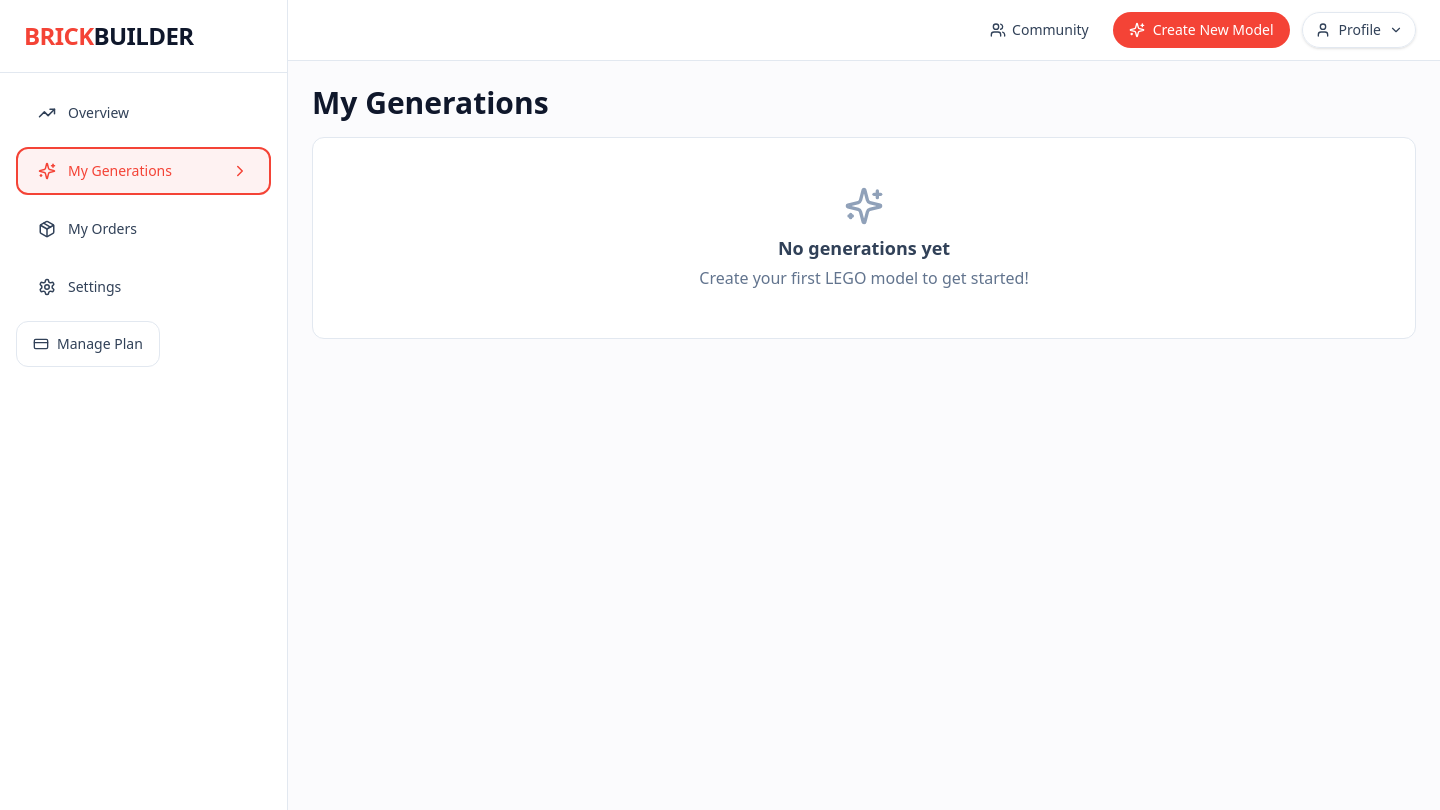
returns from My Generations to the dashboard overview through the profile menu
Expected: the heading "My Generations" is shown, [312,82,549,123]
Click the button with aria-label "Profile" at [1359, 30], box [1302,12,1416,48]
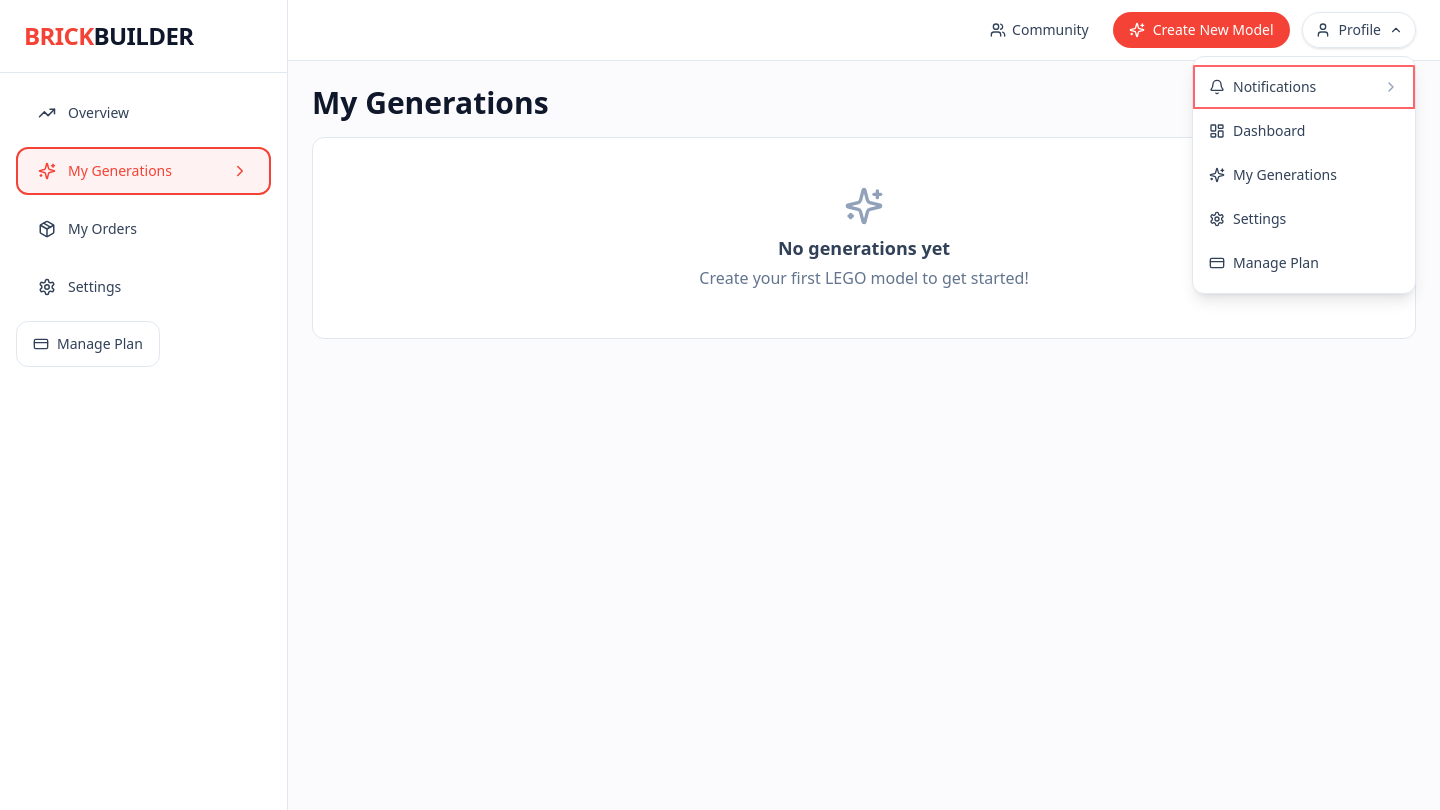
Click the button "Dashboard" at [1304, 131], box [1193,109,1415,153]
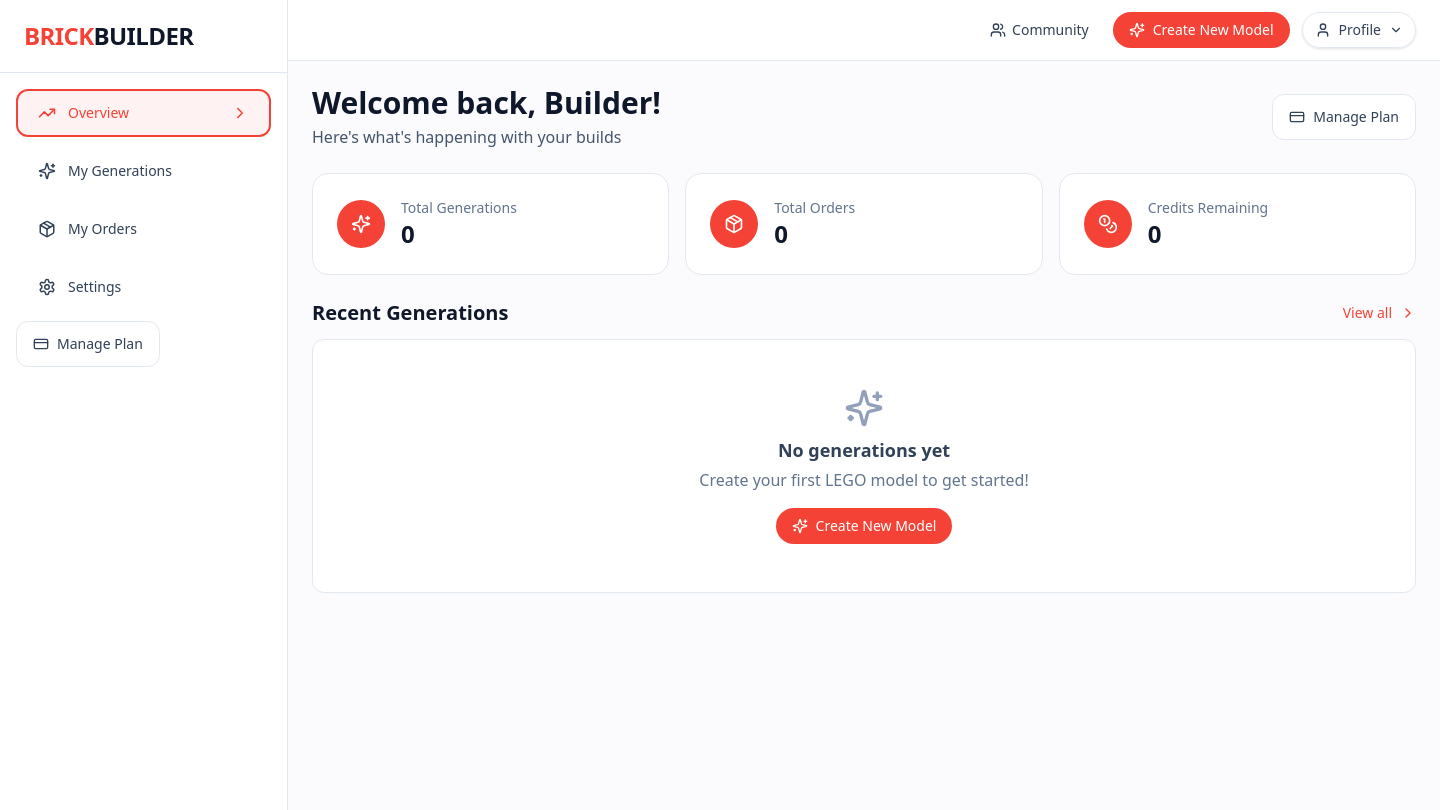
Expected: the heading "Welcome back, Builder!" is shown, [312,85,661,121]
Click the button "Profile" at [1359, 30], box [1302,12,1416,48]
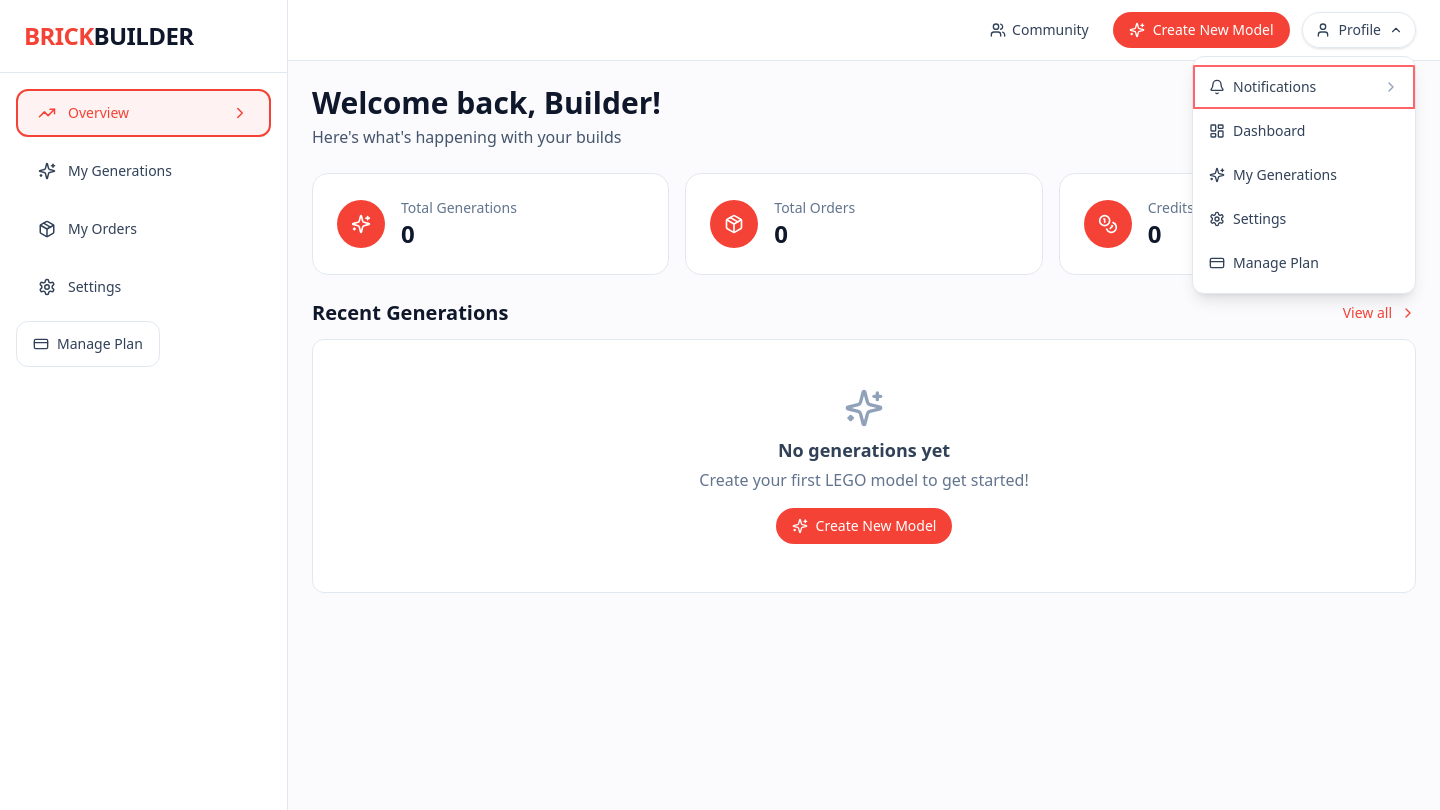
Click the 2nd button "My Generations" at [1304, 175], box [1193,153,1415,197]
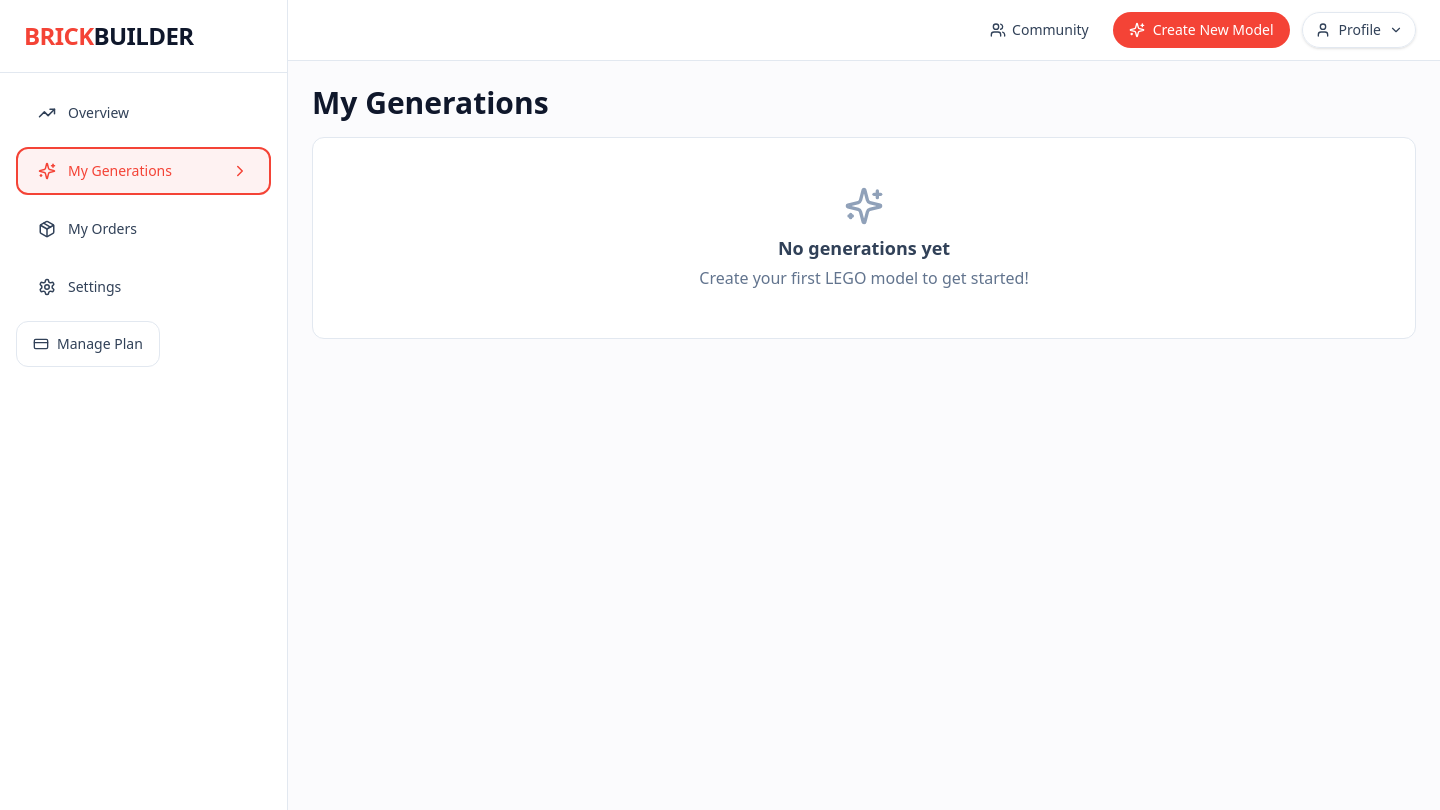
Expected: the heading "My Generations" is shown, [312,82,549,123]
